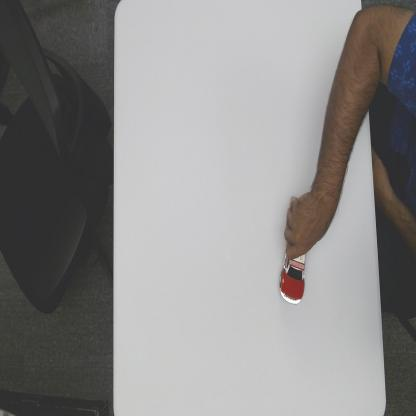Arm: (311, 8, 399, 200)
Firetruck: (278, 244, 306, 306)
Hand: (282, 185, 332, 254)
